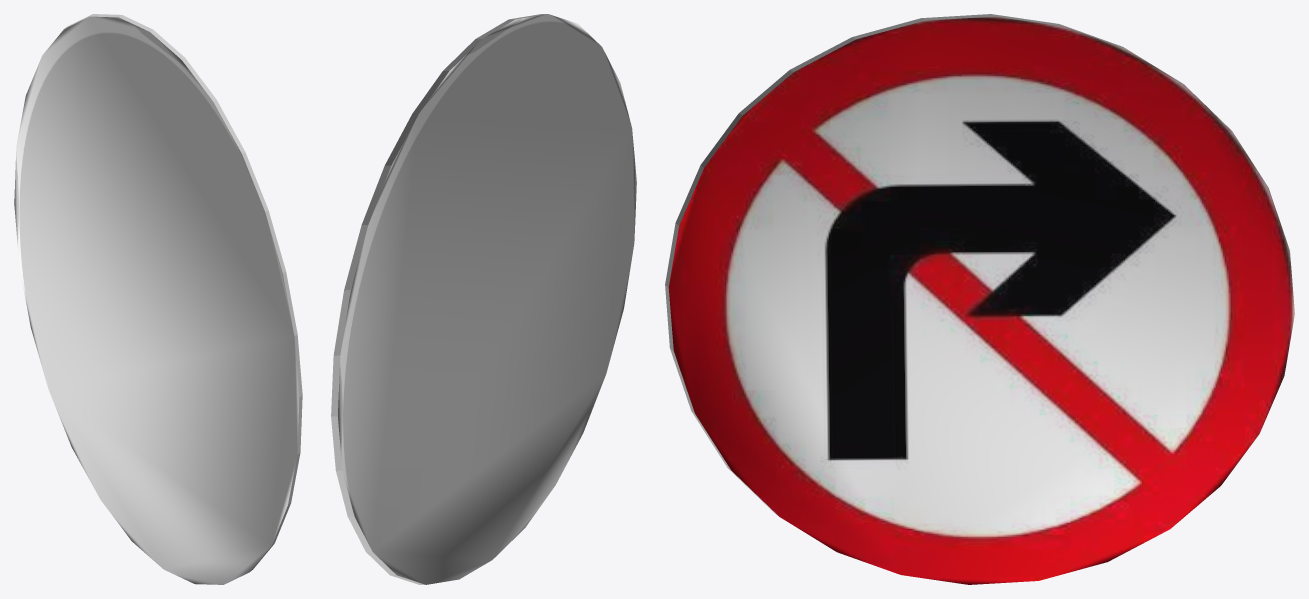
3 renders of one model, left to right at view 1: azimuth 30°, elevation 25°; view 2: azimuth 150°, elevation 25°; view 3: azimuth 270°, elevation 25°, orthographic. The views are drawn at different scales.
Parts seen in each view (by area): view 1: model23; view 2: model23; view 3: model23.
Boxes of the visible parts, x1,y1,x2,y2 form: model23: (14, 14, 302, 584); model23: (331, 14, 636, 584); model23: (665, 14, 1294, 584).
Bounding box in the file's own units: 0.0278 × 1.19 × 1.19.
Materials: 3 (2 with a texture image).
